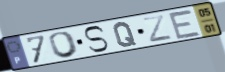7: (25, 34, 48, 65)
E: (166, 9, 203, 41)
O: (47, 30, 81, 60)
Q: (112, 21, 139, 49)
S: (82, 24, 110, 54)
Z: (141, 14, 175, 44)
